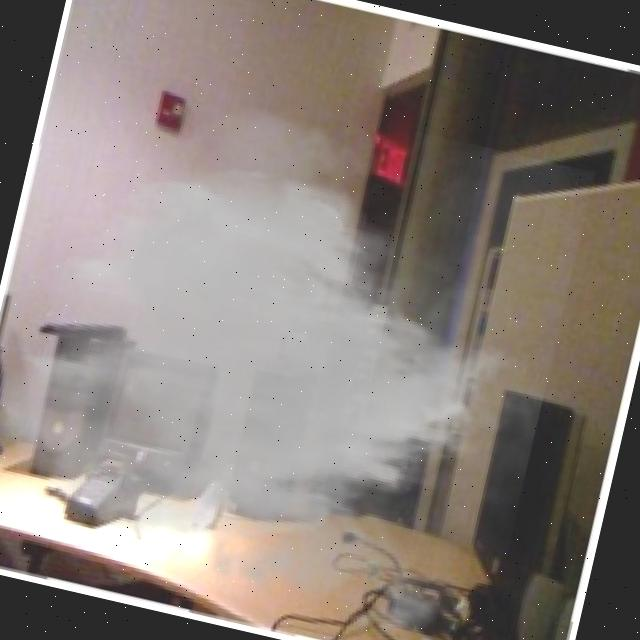smoke: (0, 52, 594, 640)
